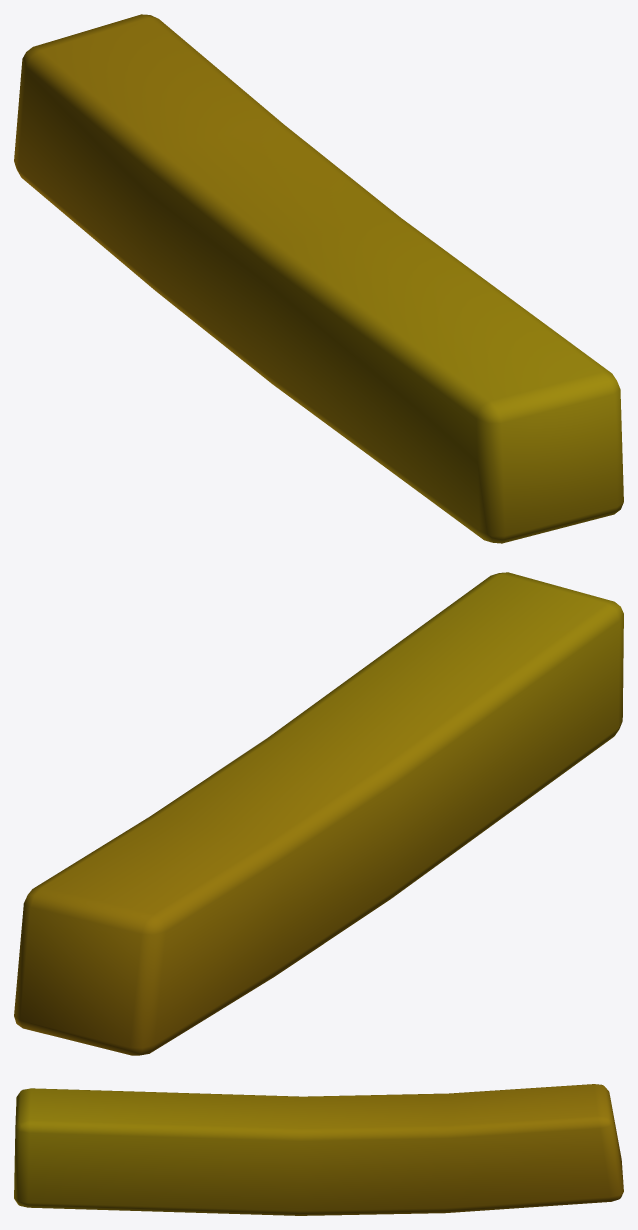
Rendered from Fry.2.glb.
3 views of the same model, one above another, from view 1: azimuth 30°, elevation 25°; view 2: azimuth 150°, elevation 25°; view 3: azimuth 270°, elevation 25° (orthographic). The views are drawn at different scales.
Parts seen in each view (by area): view 1: geometry_0; view 2: geometry_0; view 3: geometry_0.
Part boxes in pixels (x1,y1,x2,y2): geometry_0: (14,14,623,543); geometry_0: (14,572,623,1055); geometry_0: (14,1084,623,1215).
Size of the model in its own units: 0.0137 by 0.014 by 0.0767.
Materials: 1 (1 with a texture image).
